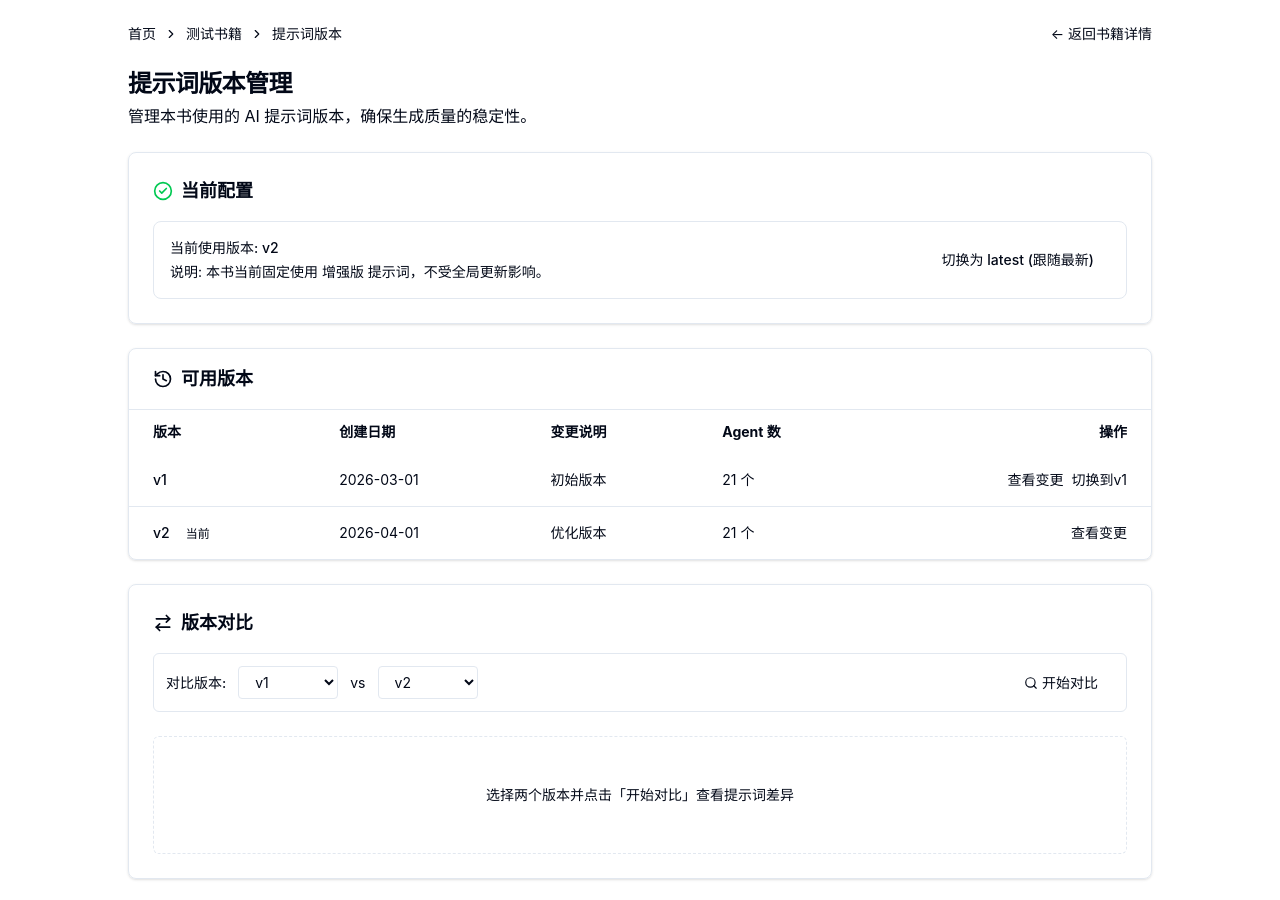
Test: PromptVersionView › shows a visible error when comparison fails
Click the button "开始对比".
click(1061, 682)  # box [1008,666,1114,698]
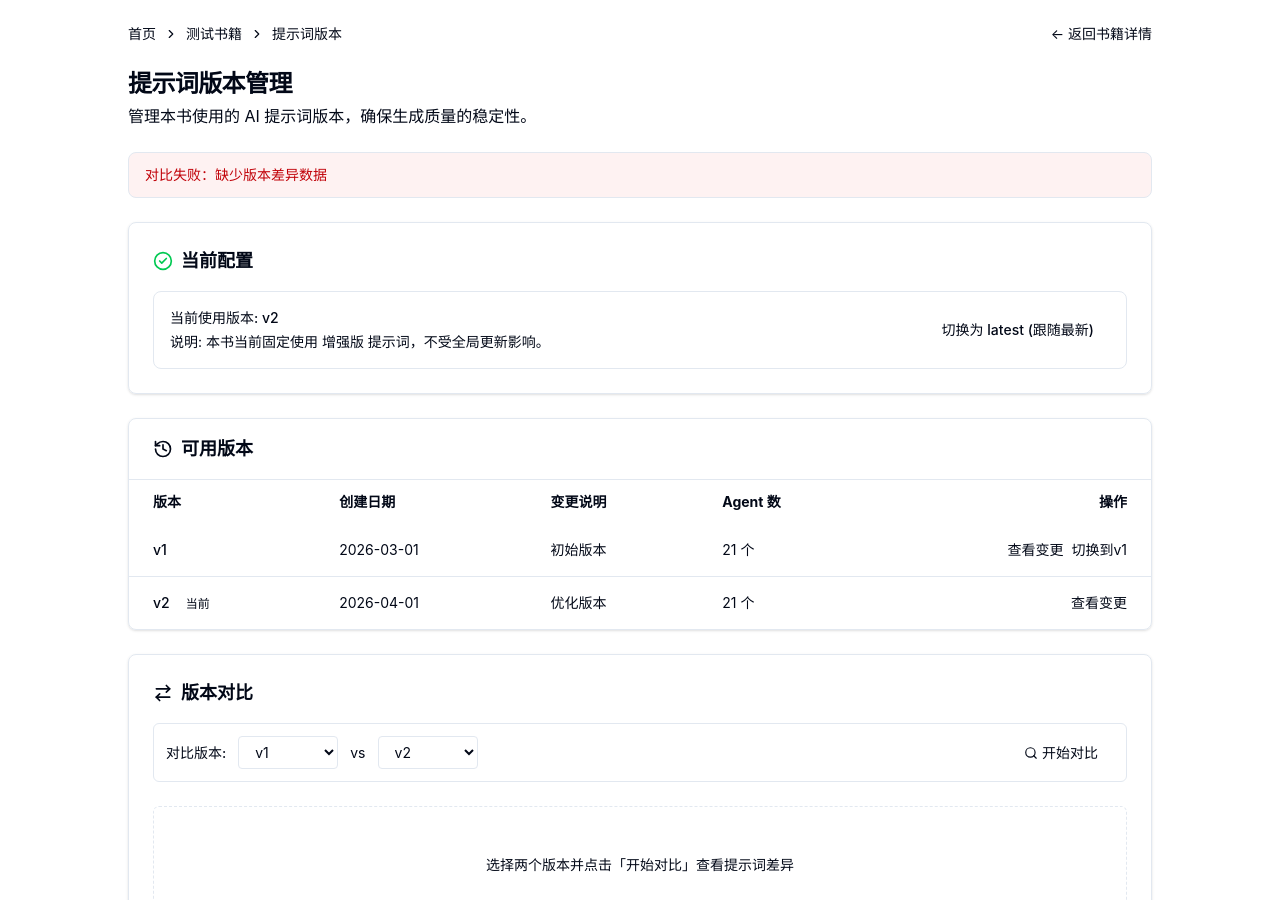
Result: the message reads "对比失败：缺少版本差异数据" at [145,166,327,183]
